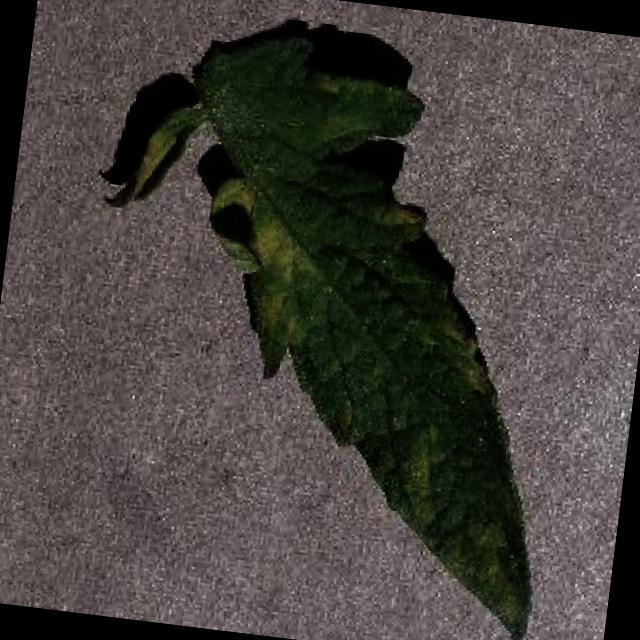Tomato healthy leaf: (68, 14, 596, 640)
